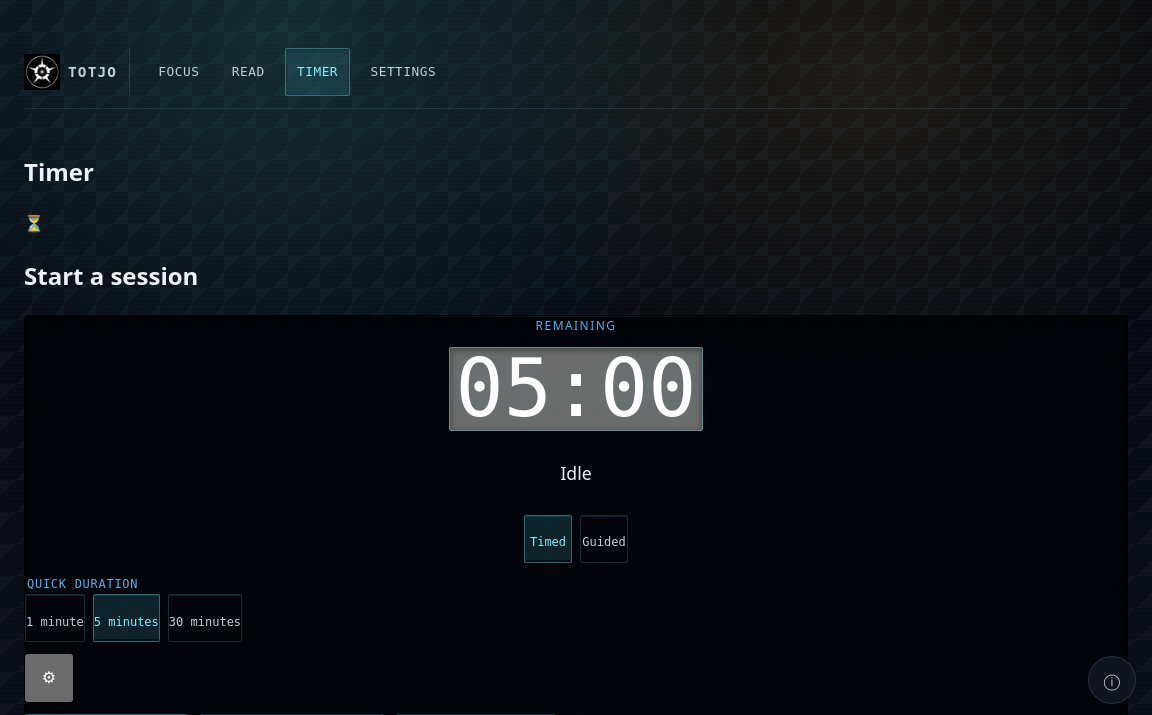
Test case: guided meditation timer › sends you to the audio manager when no guided audio exists on the device at all
The width and height of the screenshot is (1152, 715).
Click the button with test id "timer-mode-guided" at {"x": 604, "y": 539}, box [580,515,628,563]
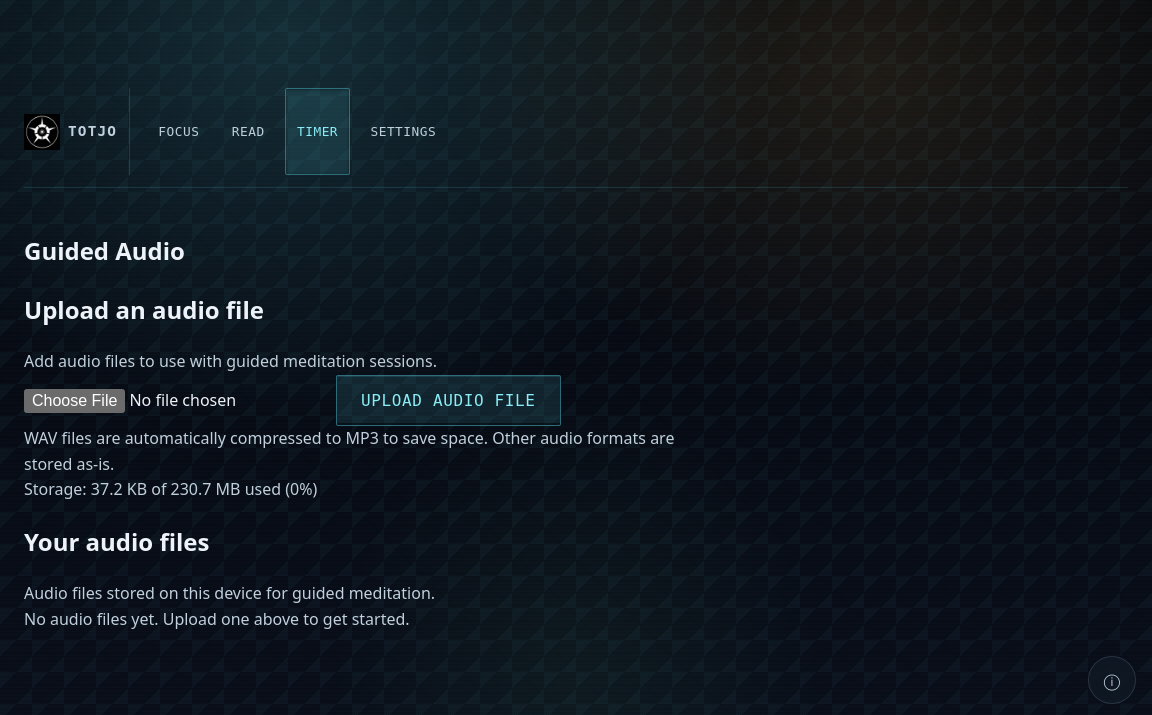
Check: the heading "Upload an audio file" is shown, box [24,293,264,326]
